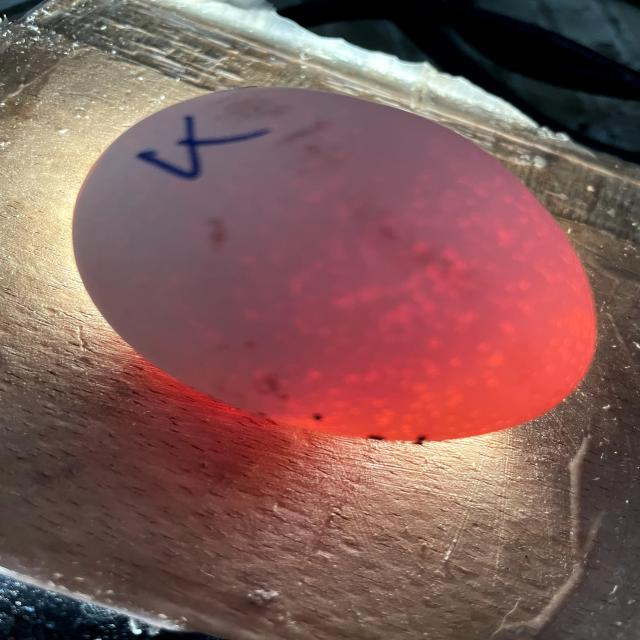fertile: (73, 87, 595, 440)
